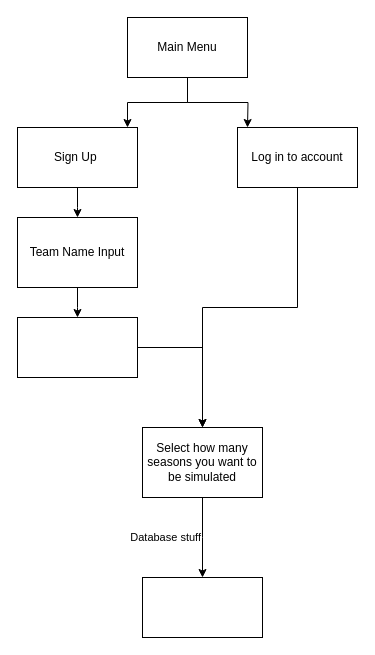
The diagram is 375 pixels wide and 655 high, and some of its shapes have lost their labels. The shapes that lost their labels are listed below. From the top down, each one's centre as x and y in pixels, then its label:
At pixel 77 347: "Input stats for all 6 players".
At pixel 202 607: "Statistics output".
